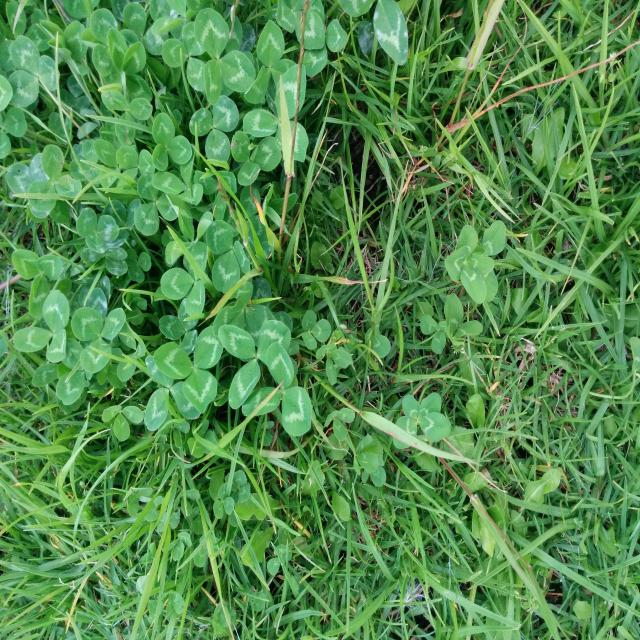Four Leaf Clover: (445, 225, 494, 304), (394, 394, 451, 449)
